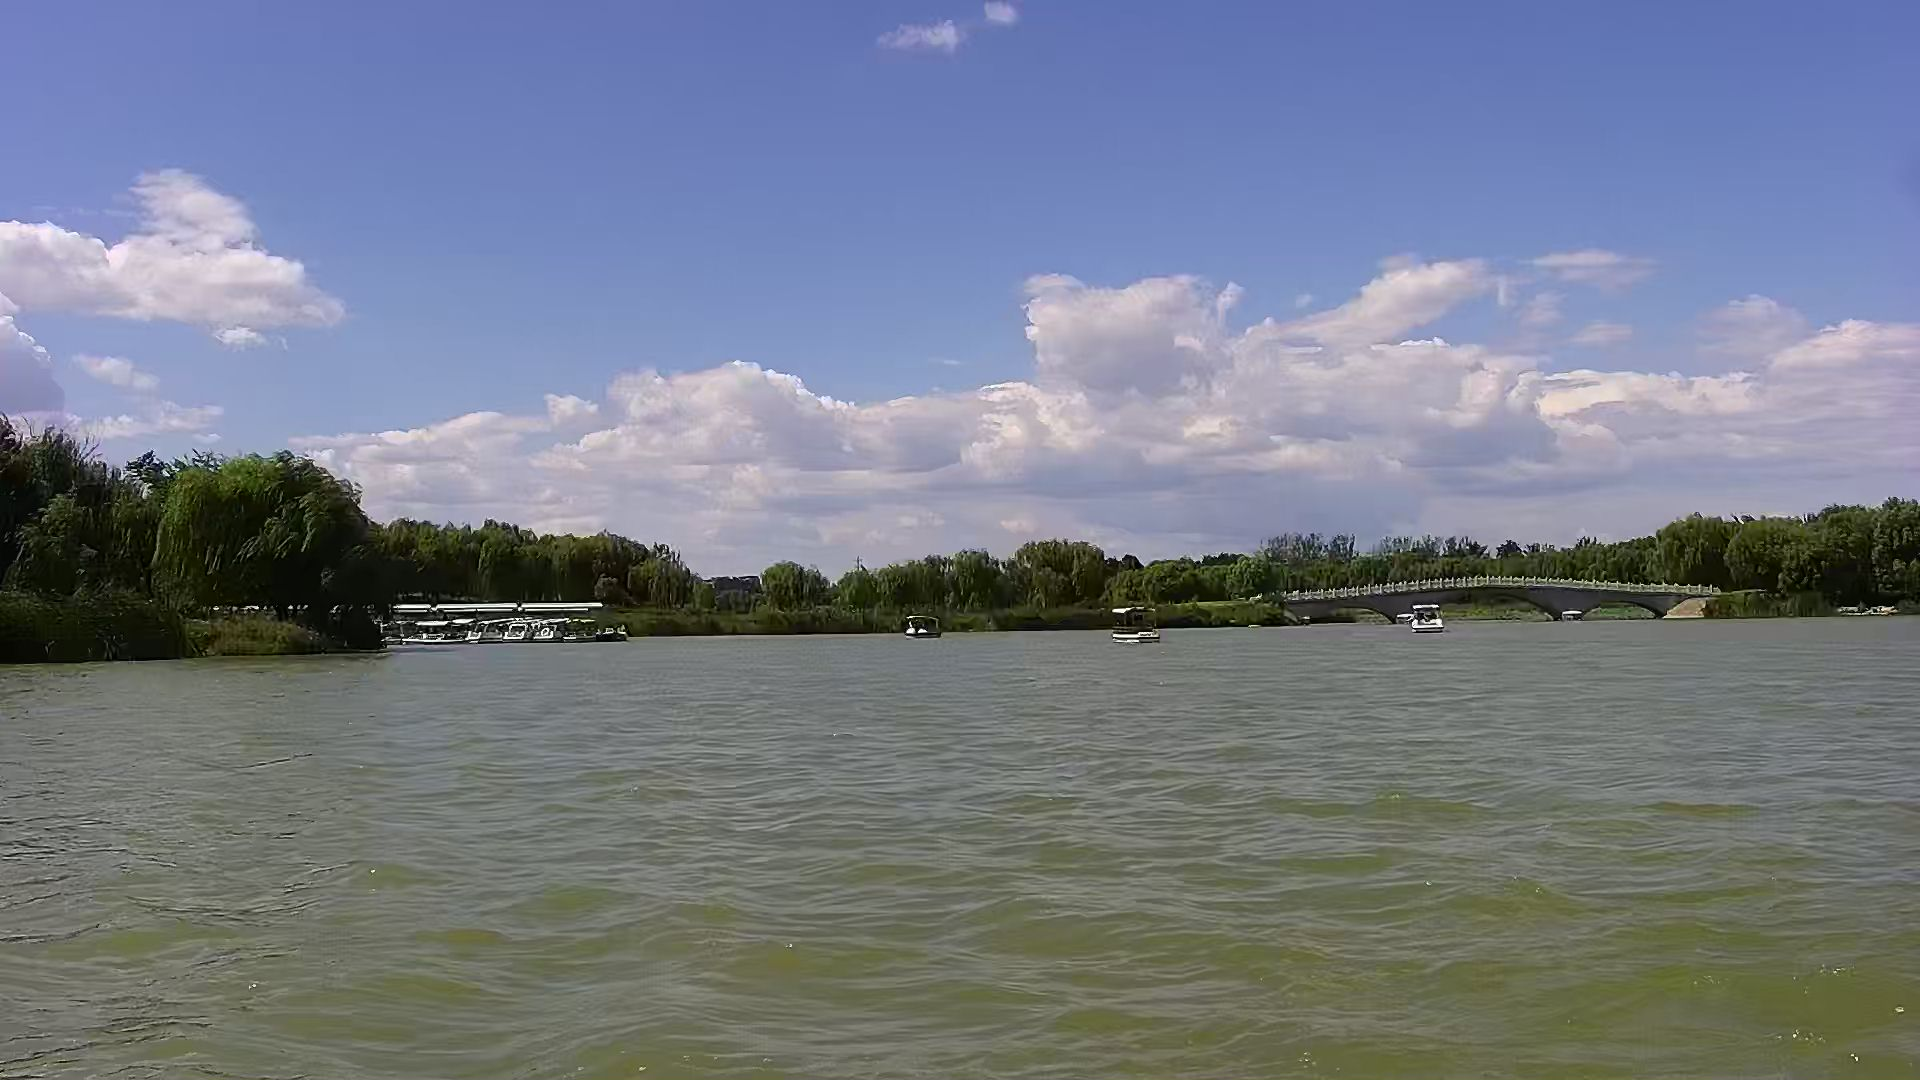boat: (1109, 600, 1172, 650), (902, 609, 953, 645), (1411, 597, 1453, 634)
bridge: (1283, 576, 1731, 616)
